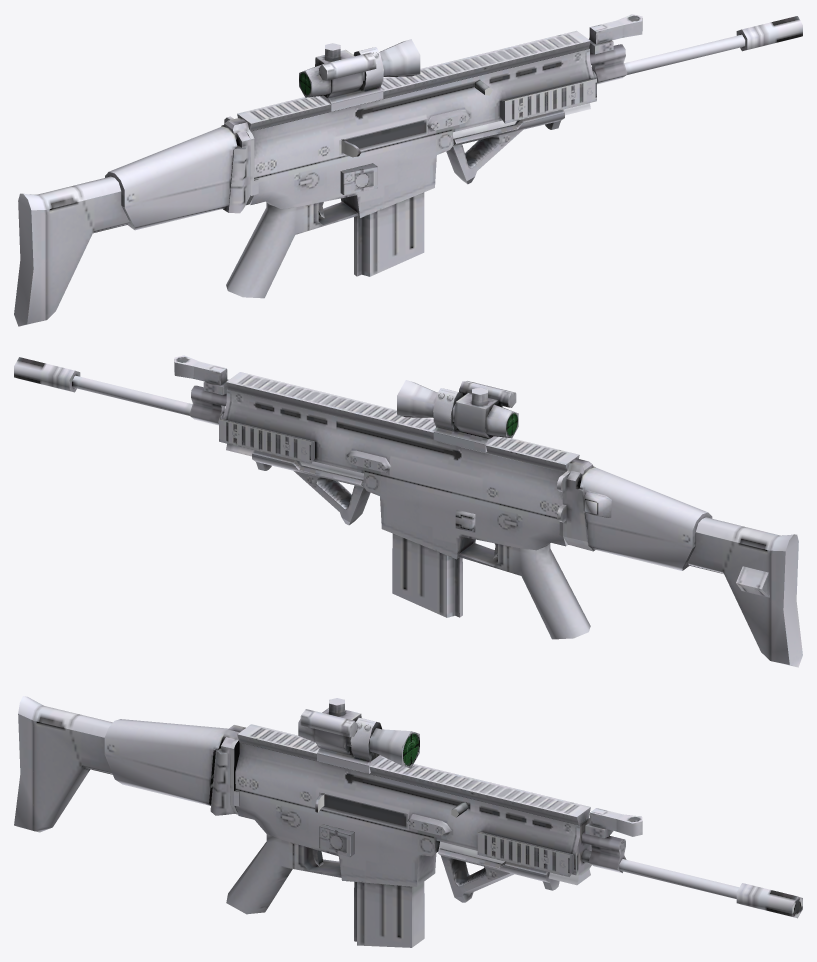
File: Weapon_AssaultRifle_COBR-A_Weapon_AssaultRifle_COBR-A_SkeletalMesh3_Weapon_AssaultRifle_COBR-A_Scoped_LOD0.psk.glb
3 views of the same model, one above another, from view 1: azimuth 30°, elevation 25°; view 2: azimuth 150°, elevation 25°; view 3: azimuth 330°, elevation 25° (orthographic).
Size of the model in its own units: 94.42 by 26.87 by 7.85.
1 material, 1 textured.
